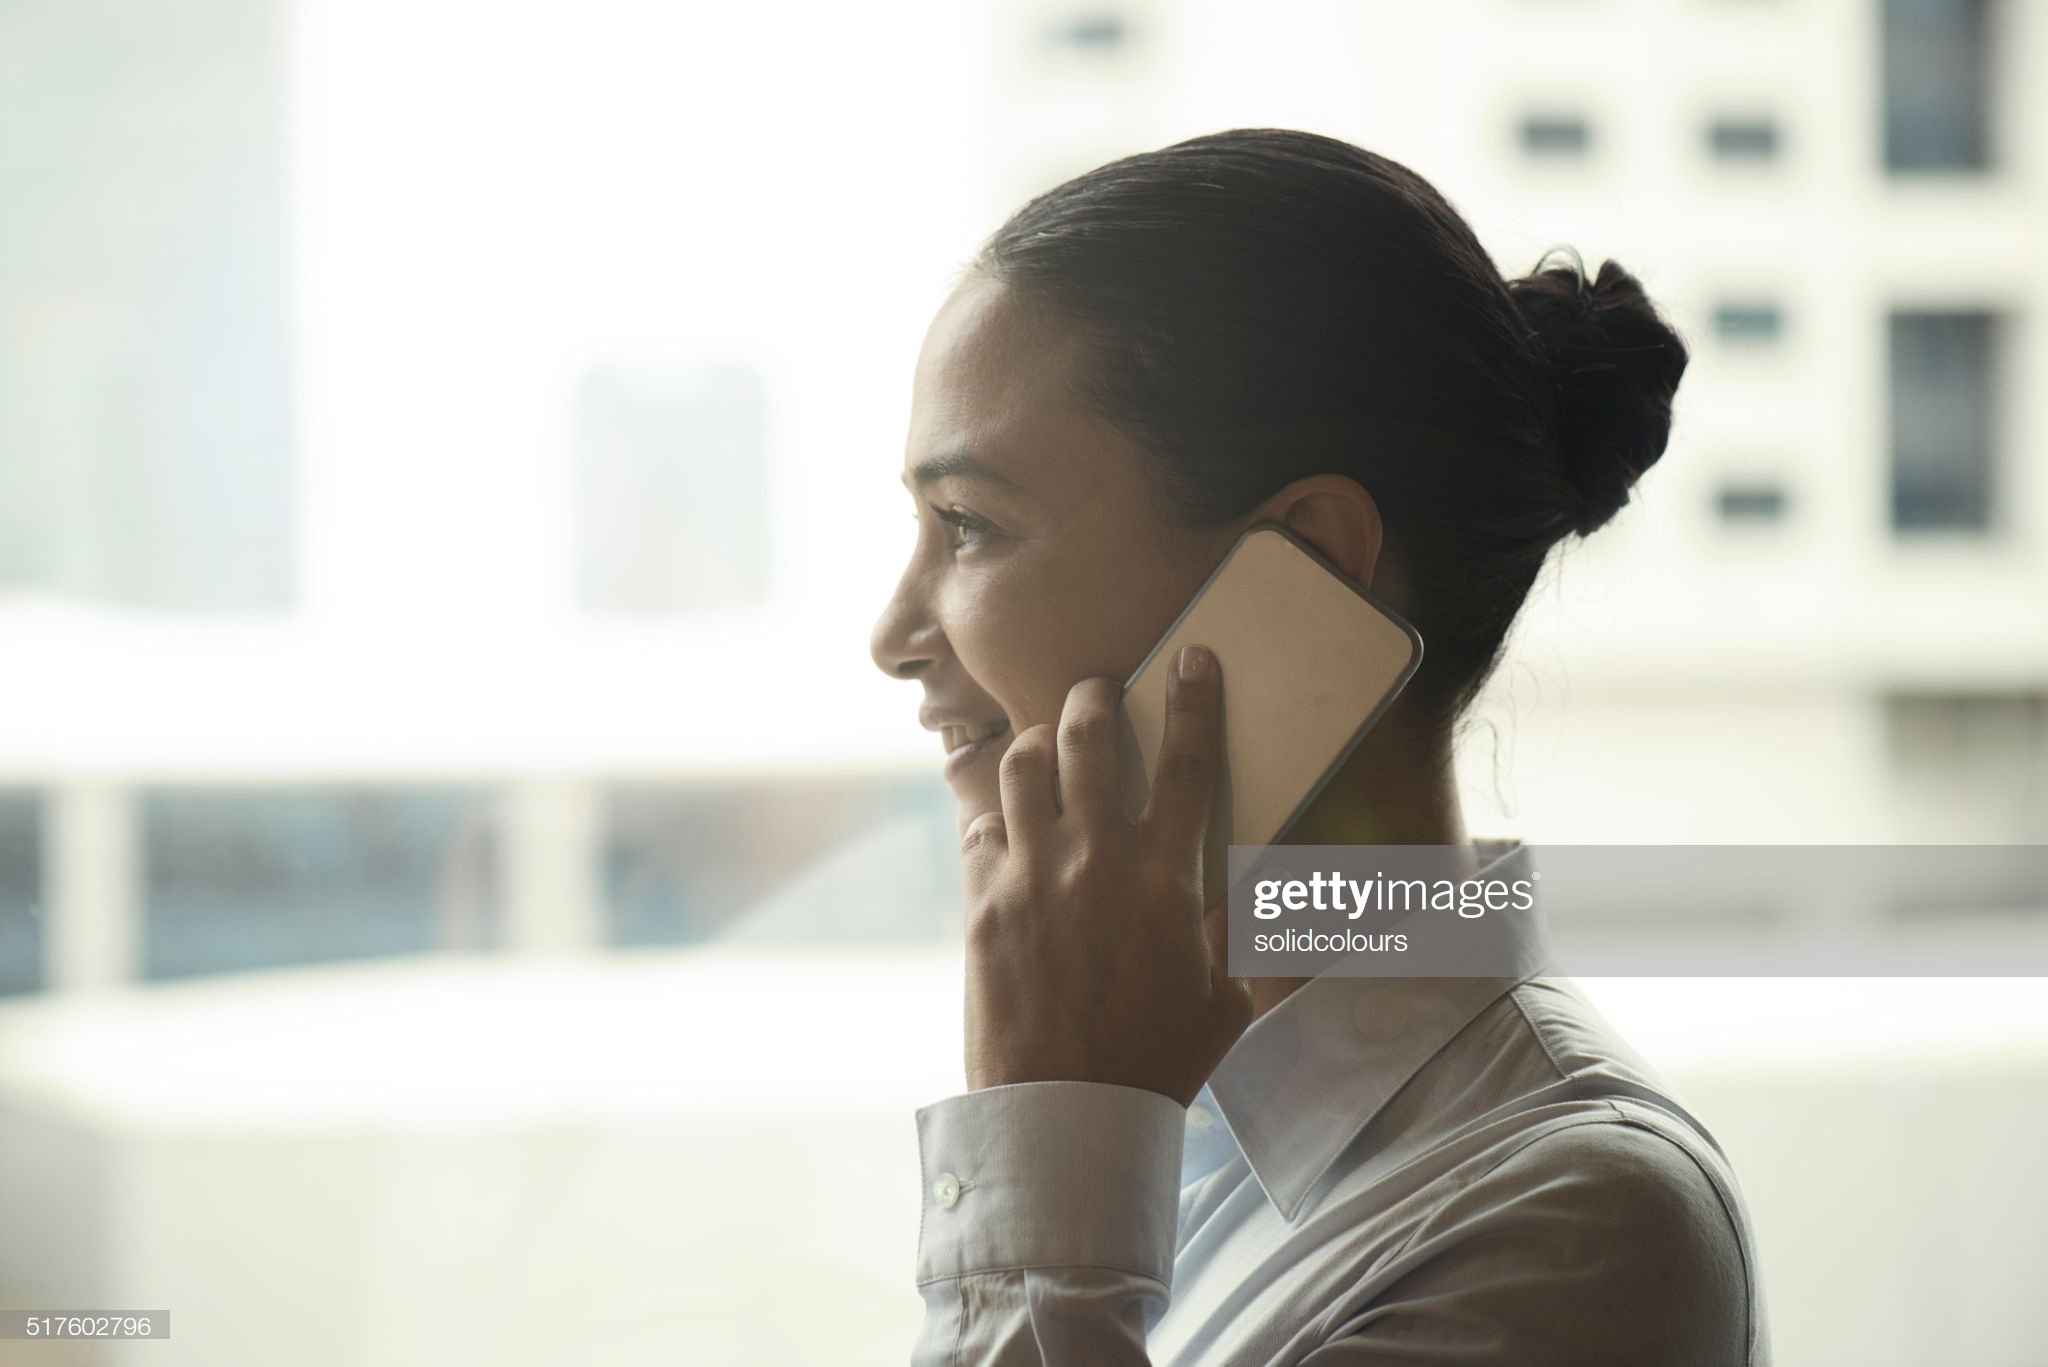phone: (1042, 523, 1415, 966)
talk: (878, 407, 1455, 1117)
